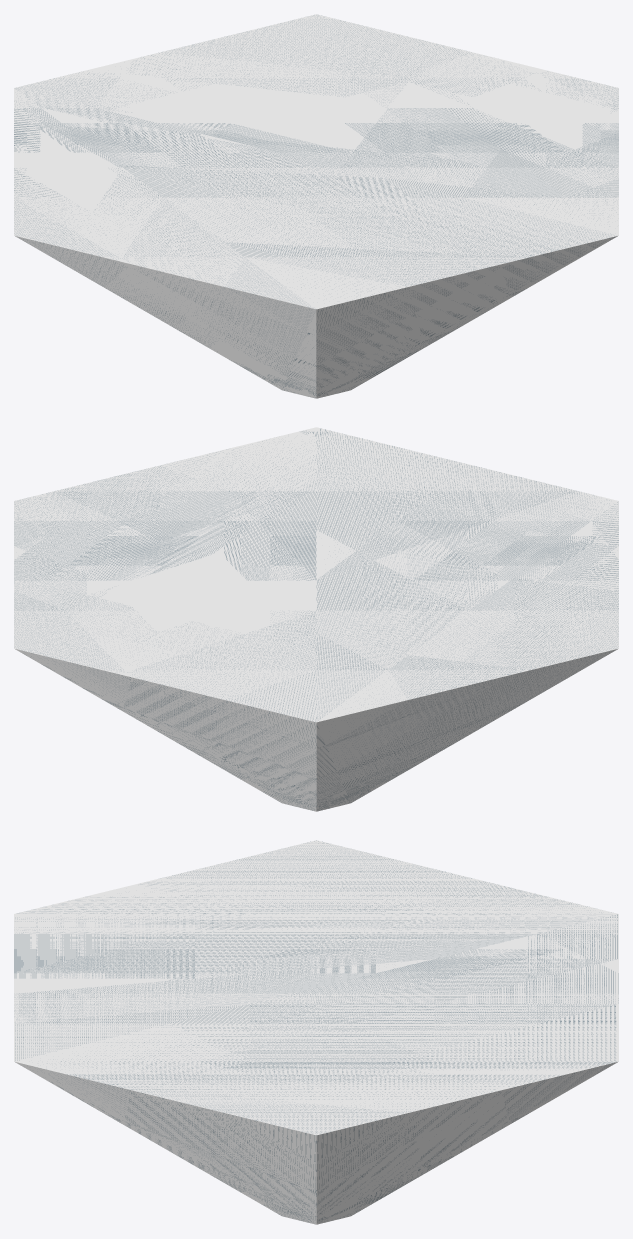
Rendered from Funnel_Liquid.obj.
The picture shows the model from 3 angles, top to bottom: view 1: azimuth 30°, elevation 25°; view 2: azimuth 150°, elevation 25°; view 3: azimuth 270°, elevation 25°; orthographic projection.
Visible parts, largest first — view 1: Mesh1 Model; view 2: Mesh1 Model; view 3: Mesh1 Model.
Boxes of the visible parts, x1,y1,x2,y2 form: Mesh1 Model: (14,14,618,398); Mesh1 Model: (14,427,618,811); Mesh1 Model: (14,840,618,1224).
Bounding box in the file's own units: 0.0431 × 0.015 × 0.0374.
